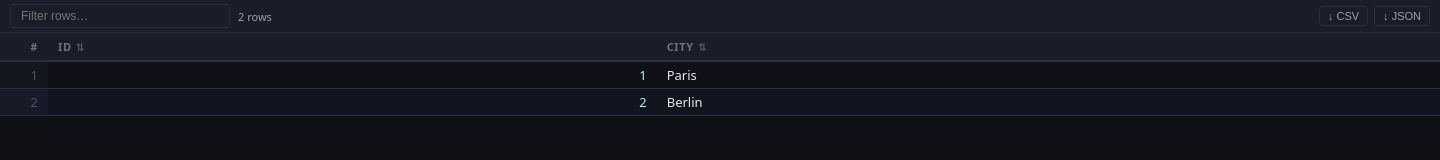
Test: ResultsTable — sorting › shows ↑ on the id header after one click
What coordinates should you click on to do the following:
click the column heading "id⇅"
I would click on:
 (352, 47)
Its box is top-left (48, 33), bottom-right (657, 61).
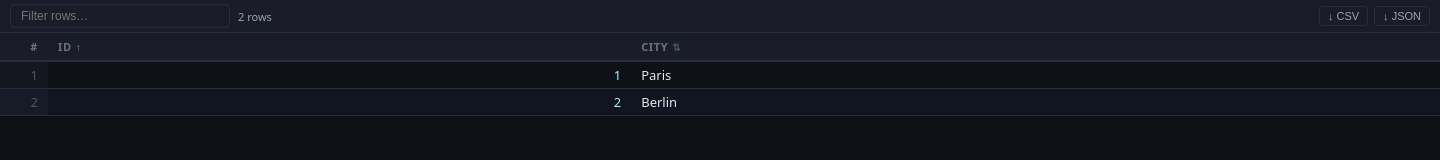
Expected: the column heading "id↑" is shown, top-left (48, 33), bottom-right (631, 61)
